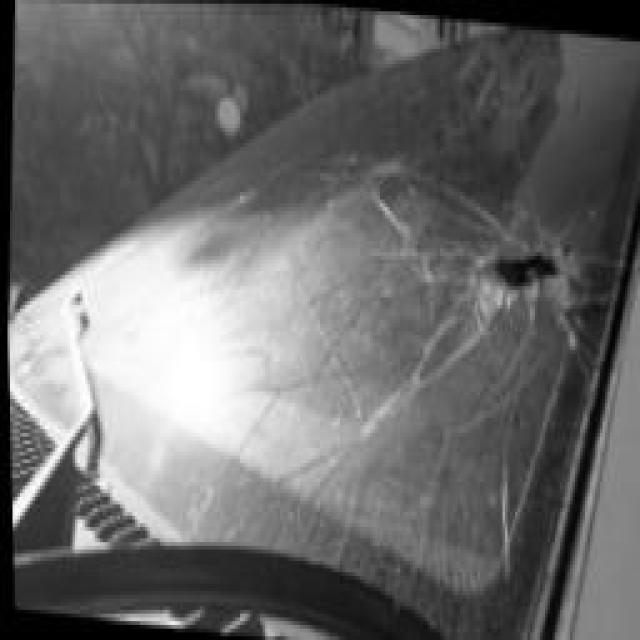Windshield: (188, 102, 607, 576)
